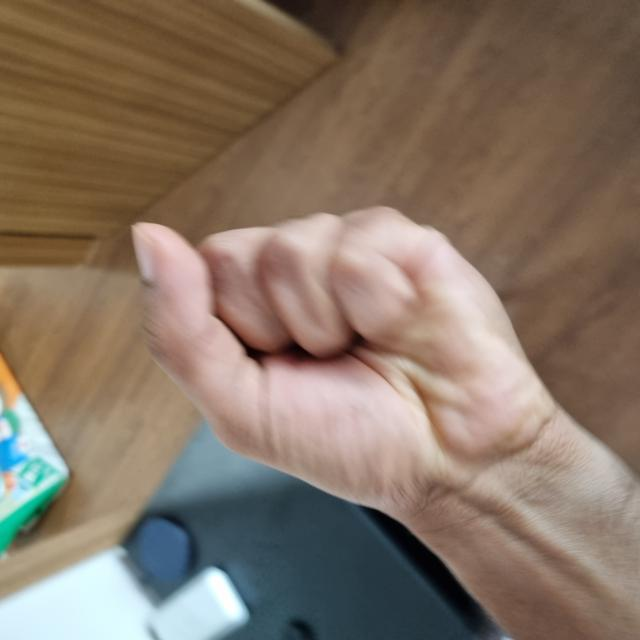Rock: (128, 143, 430, 535)
